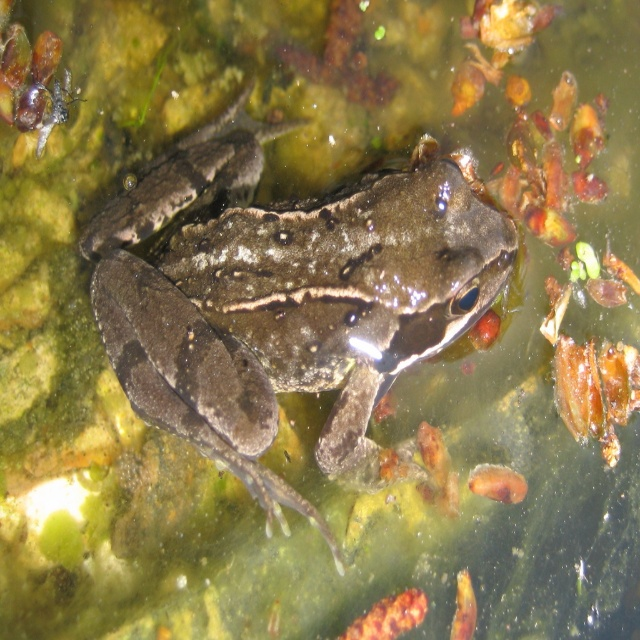Frog: (76, 56, 521, 580)
